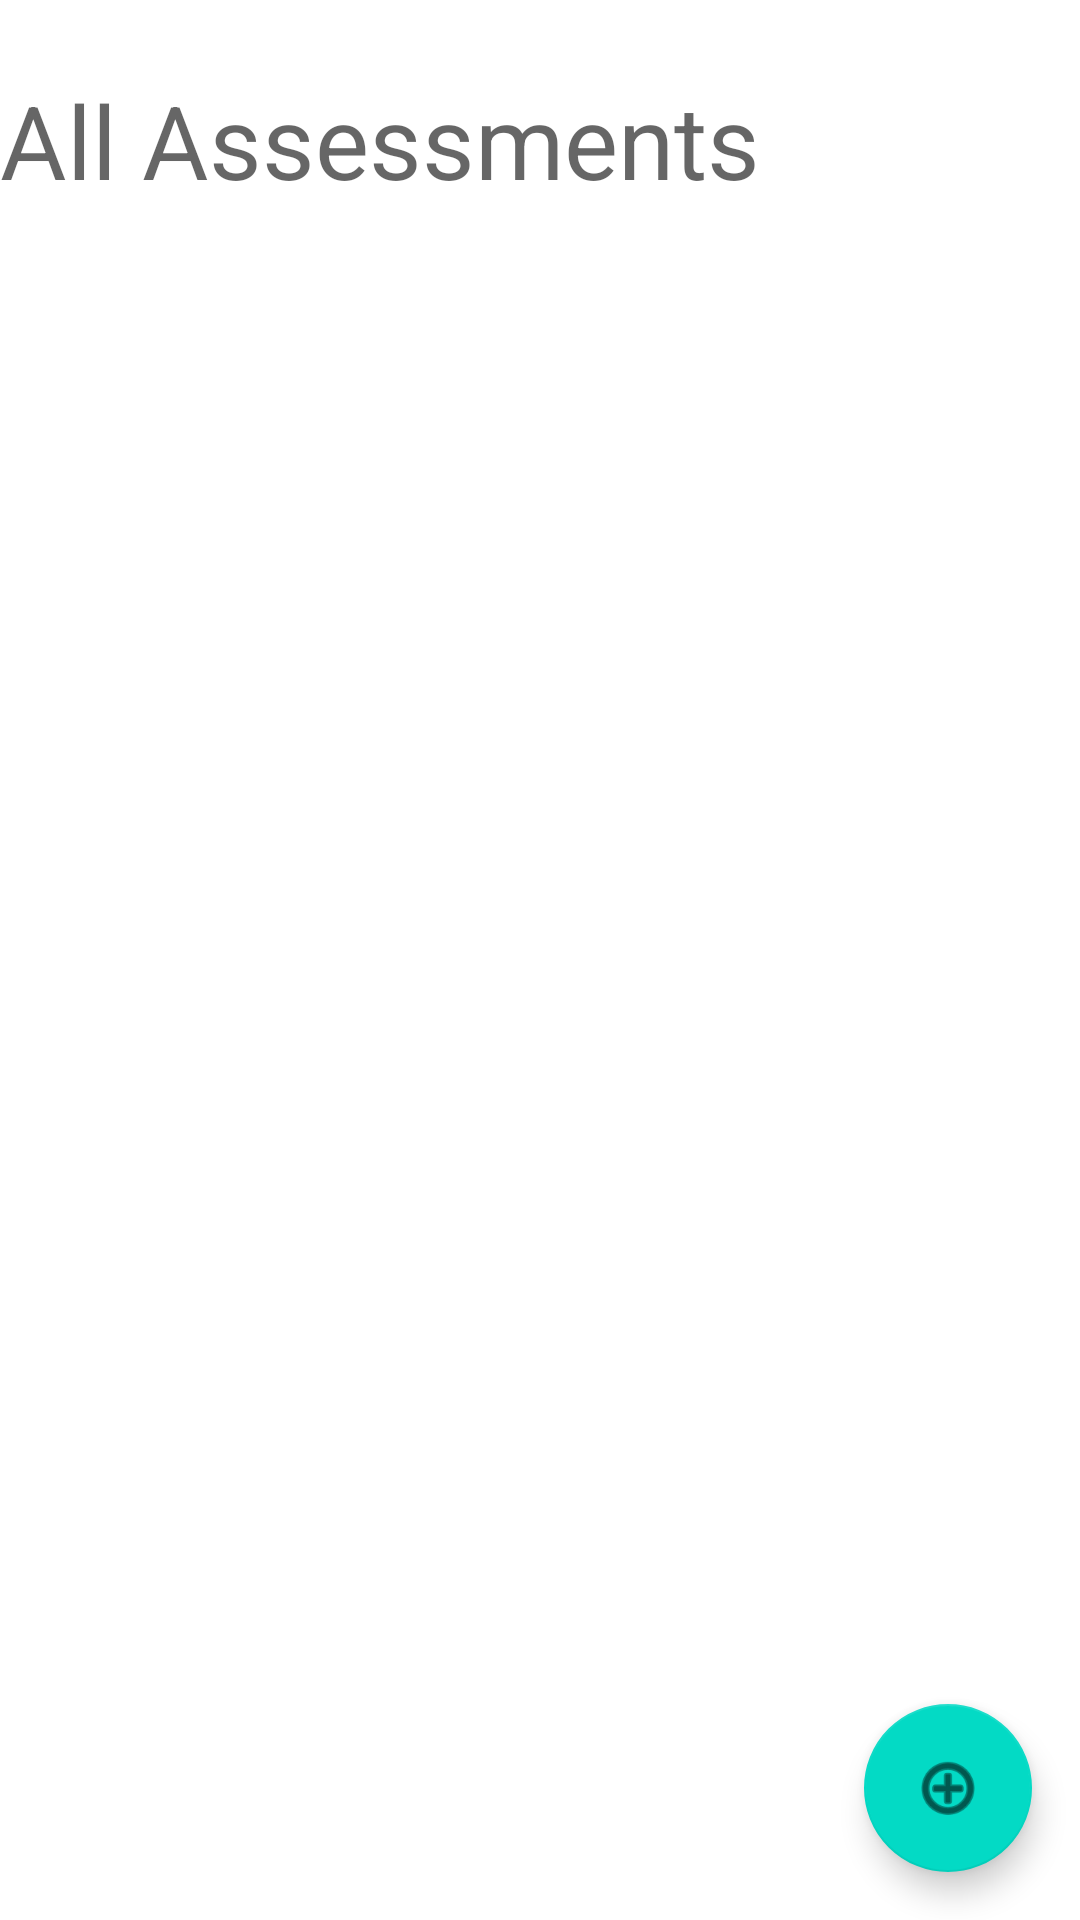

Locate icon controls on the screen. Image size 1080 × 1920, boxes as (x1, y1, x2, y2).
Add Button: (864, 1704, 1032, 1872)
